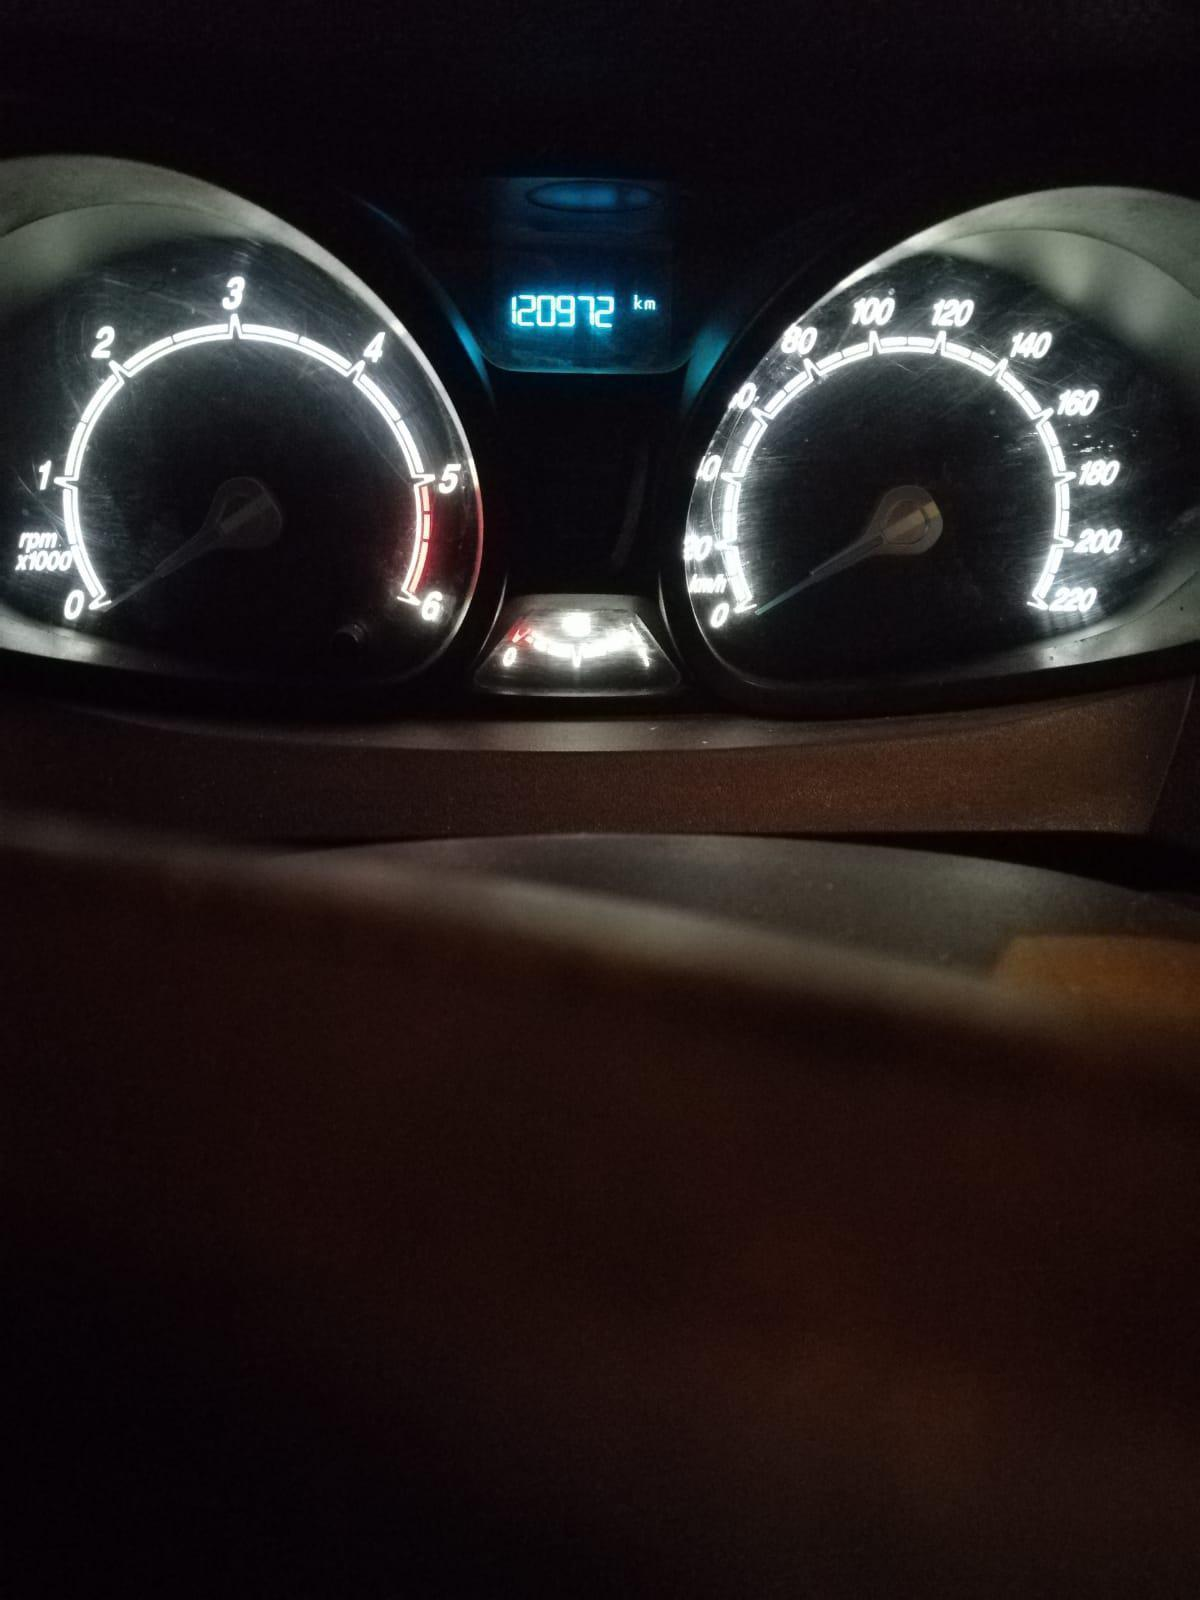0: (536, 294, 555, 326)
1: (508, 292, 516, 328)
2: (596, 295, 616, 331), (518, 292, 536, 326)
7: (576, 294, 595, 326)
9: (556, 294, 575, 328)
X: (633, 294, 643, 310), (644, 297, 655, 310)
odometer: (498, 273, 674, 358)
